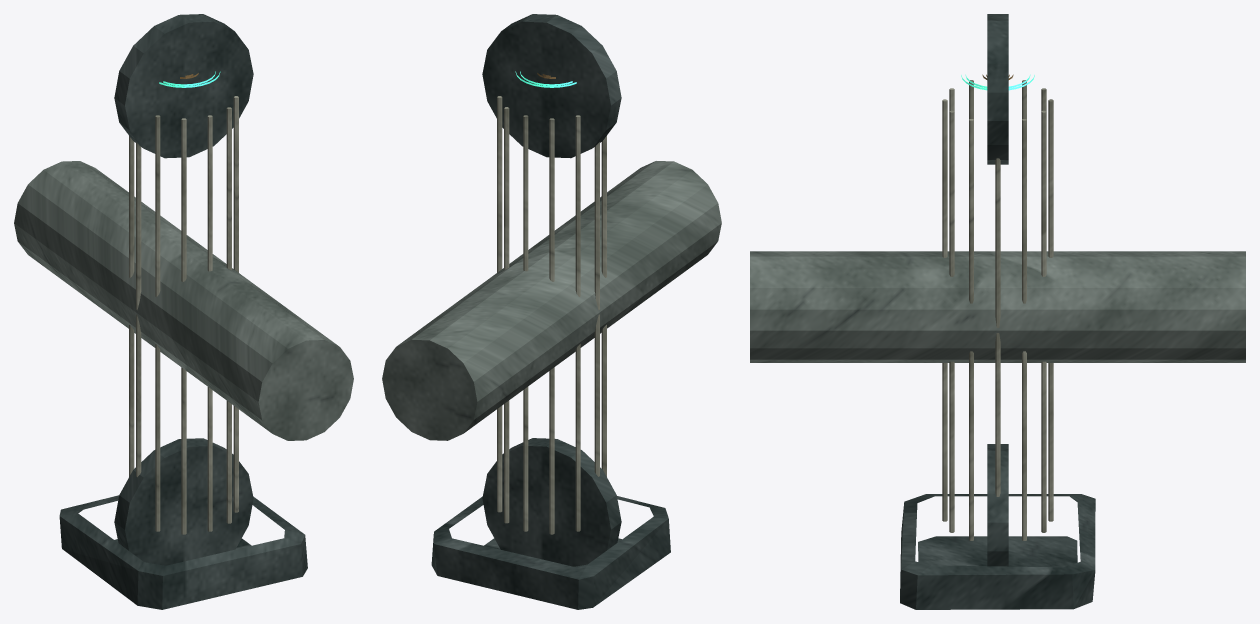
File: 0278_fluted_column_03.glb
3 renders of one model, left to right at view 1: azimuth 30°, elevation 25°; view 2: azimuth 150°, elevation 25°; view 3: azimuth 270°, elevation 25°, orthographic.
Parts seen in each view (by area): view 1: stone, stone_dark, stone_light; view 2: stone, stone_dark, stone_light; view 3: stone, stone_dark, stone_light.
Boxes of the visible parts, x1,y1,x2,y2 form: stone: (14, 161, 353, 440); stone_dark: (59, 14, 307, 609); stone_light: (129, 96, 238, 534); stone: (382, 161, 721, 440); stone_dark: (431, 14, 670, 609); stone_light: (497, 96, 606, 534); stone: (750, 251, 1245, 362); stone_dark: (900, 14, 1095, 609); stone_light: (942, 80, 1053, 540).
Size of the model in its own units: 1.27 by 4.08 by 3.24.
5 materials, 5 textured.
